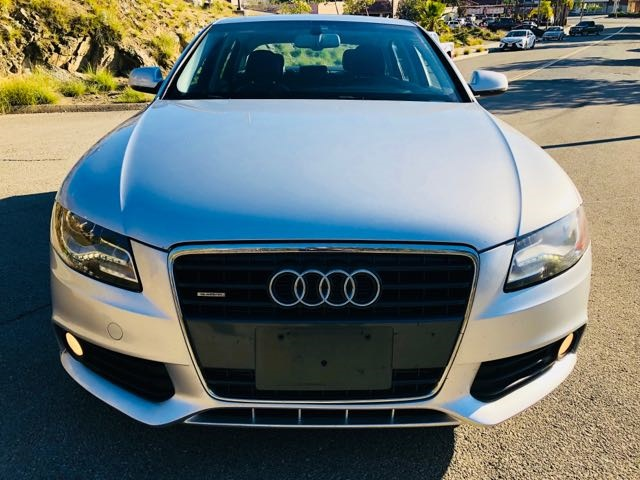audi: (264, 264, 388, 315)
